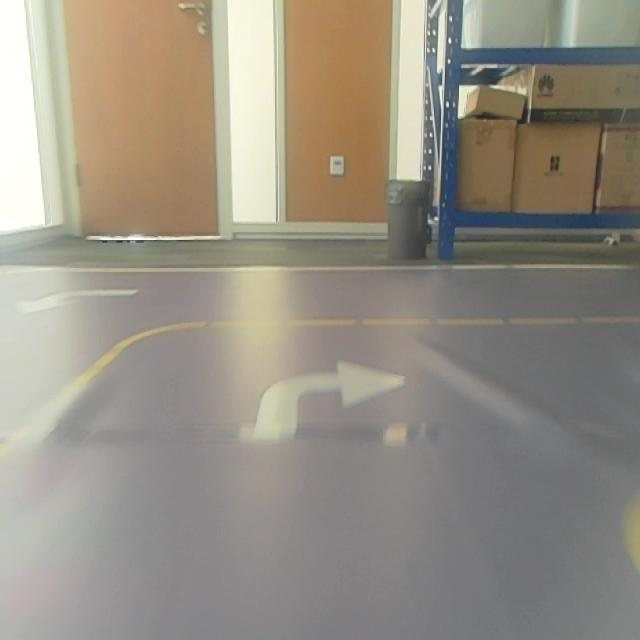left_lane: (0, 339, 136, 467)
